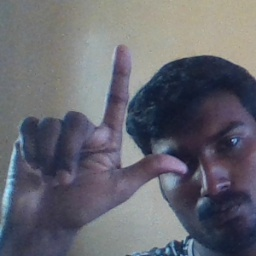L: (2, 45, 188, 230)
